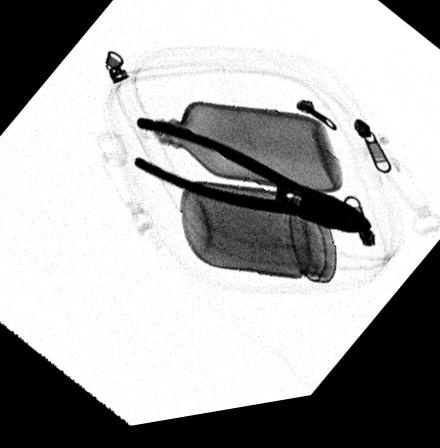Pliers: (132, 121, 370, 249)
